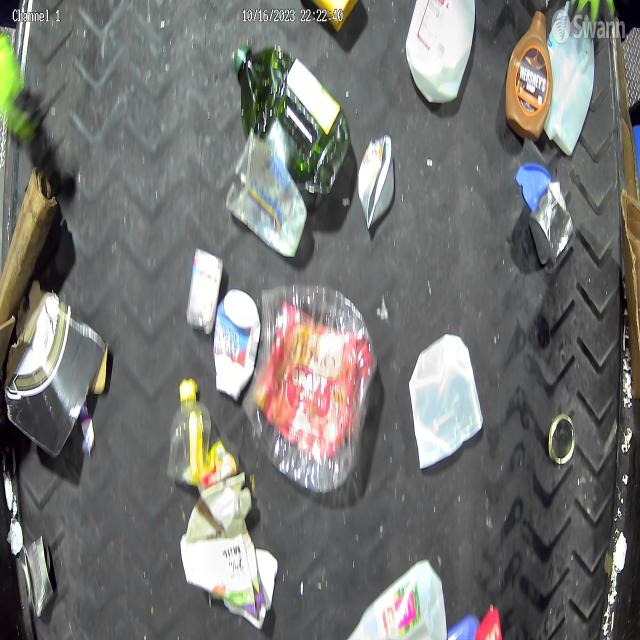can: (528, 181, 574, 271), (357, 134, 395, 230), (187, 244, 223, 336), (20, 534, 54, 618), (548, 413, 575, 464)
milk_jug: (344, 560, 447, 640), (544, 2, 596, 158), (406, 1, 476, 106)
non_white_jug: (505, 10, 553, 142)
